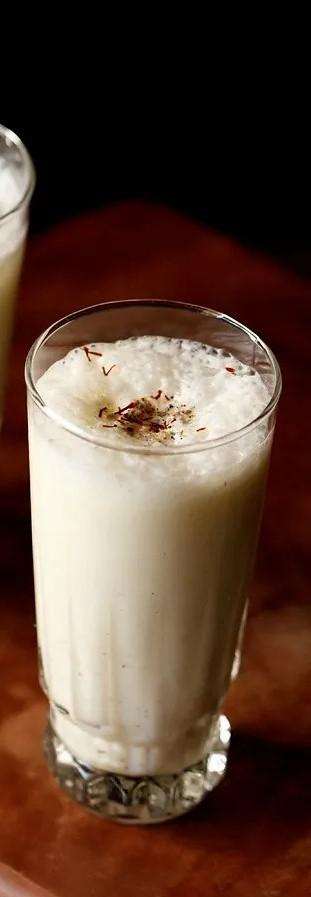Lassi: (26, 334, 270, 776)
